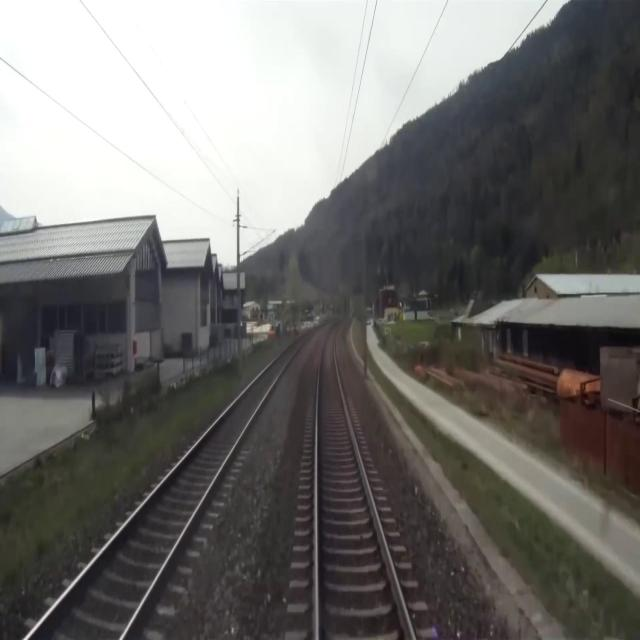rail-track: (29, 331, 312, 639), (318, 325, 411, 639)
